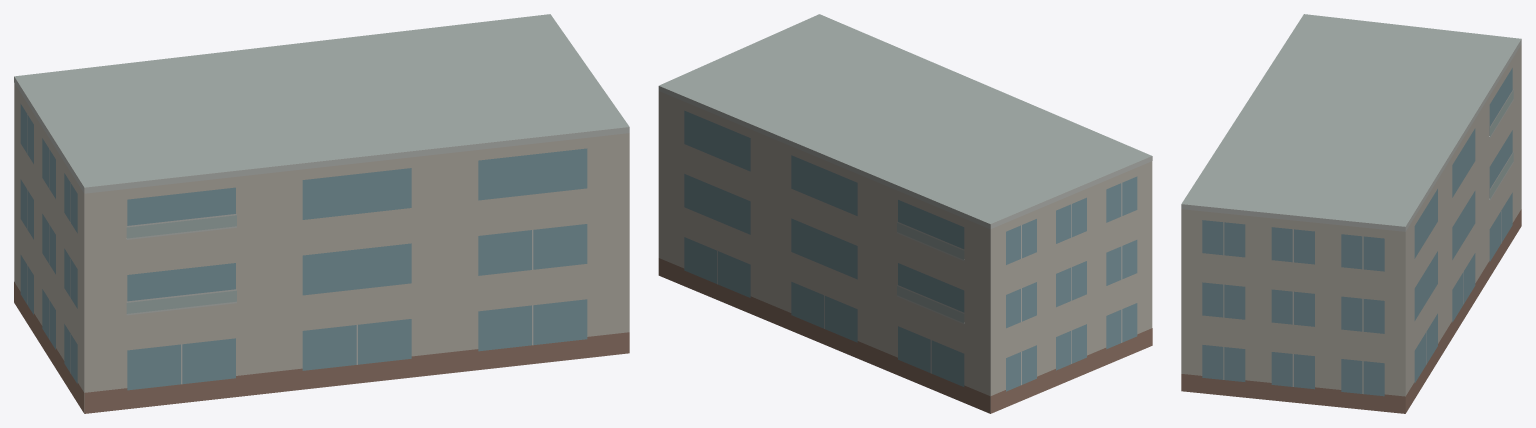
The model's file is survey-upis-32887433.glb.
The picture shows the model from 3 angles, left to right: view 1: azimuth 30°, elevation 25°; view 2: azimuth 150°, elevation 25°; view 3: azimuth 270°, elevation 25°; orthographic projection. The views are drawn at different scales.
Parts seen in each view (by area): view 1: survey-upis-32887433.tmp; view 2: survey-upis-32887433.tmp; view 3: survey-upis-32887433.tmp.
Part boxes in pixels (<box>): survey-upis-32887433.tmp: <box>14,14,629,413</box>; survey-upis-32887433.tmp: <box>658,14,1152,413</box>; survey-upis-32887433.tmp: <box>1181,14,1521,413</box>.
Bounding box in the file's own units: 22.21 × 9.1 × 15.02.
